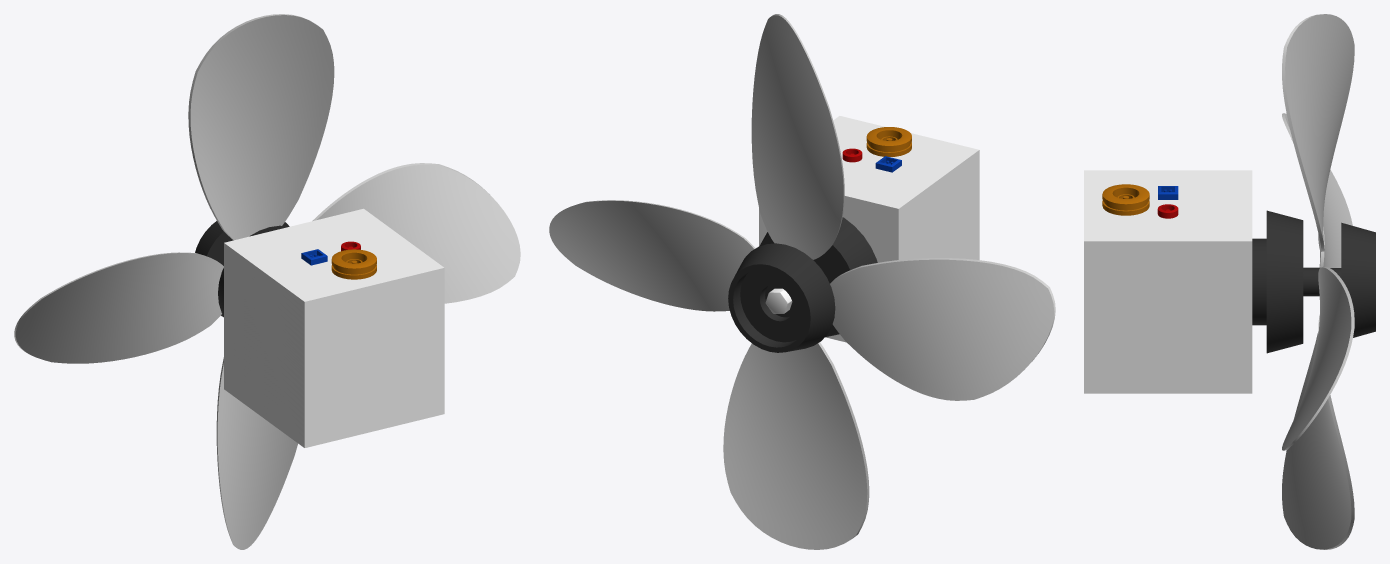
File: Propeller.gltf
3 views of the same model, side by side, from view 1: azimuth 30°, elevation 25°; view 2: azimuth 150°, elevation 25°; view 3: azimuth 270°, elevation 25° (orthographic). The views are drawn at different scales.
Visible parts, largest first — view 1: prop, base; view 2: prop, base; view 3: base, prop.
Part boxes in pixels (<box>): prop: <box>14,14,520,549</box>; base: <box>195,208,444,447</box>; prop: <box>549,14,1055,549</box>; base: <box>728,116,979,352</box>; base: <box>1084,170,1375,393</box>; prop: <box>1282,14,1354,549</box>.
Size of the model in its own units: 1.78 by 1.78 by 0.8679.
